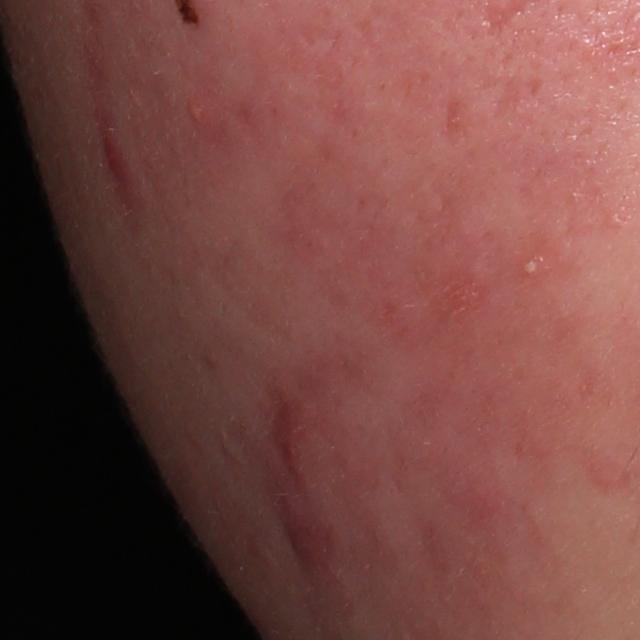atrophic_scar: (436, 96, 470, 147), (479, 1, 527, 36)
papule: (177, 86, 223, 146), (97, 133, 133, 182)
pustule: (516, 247, 552, 281)
